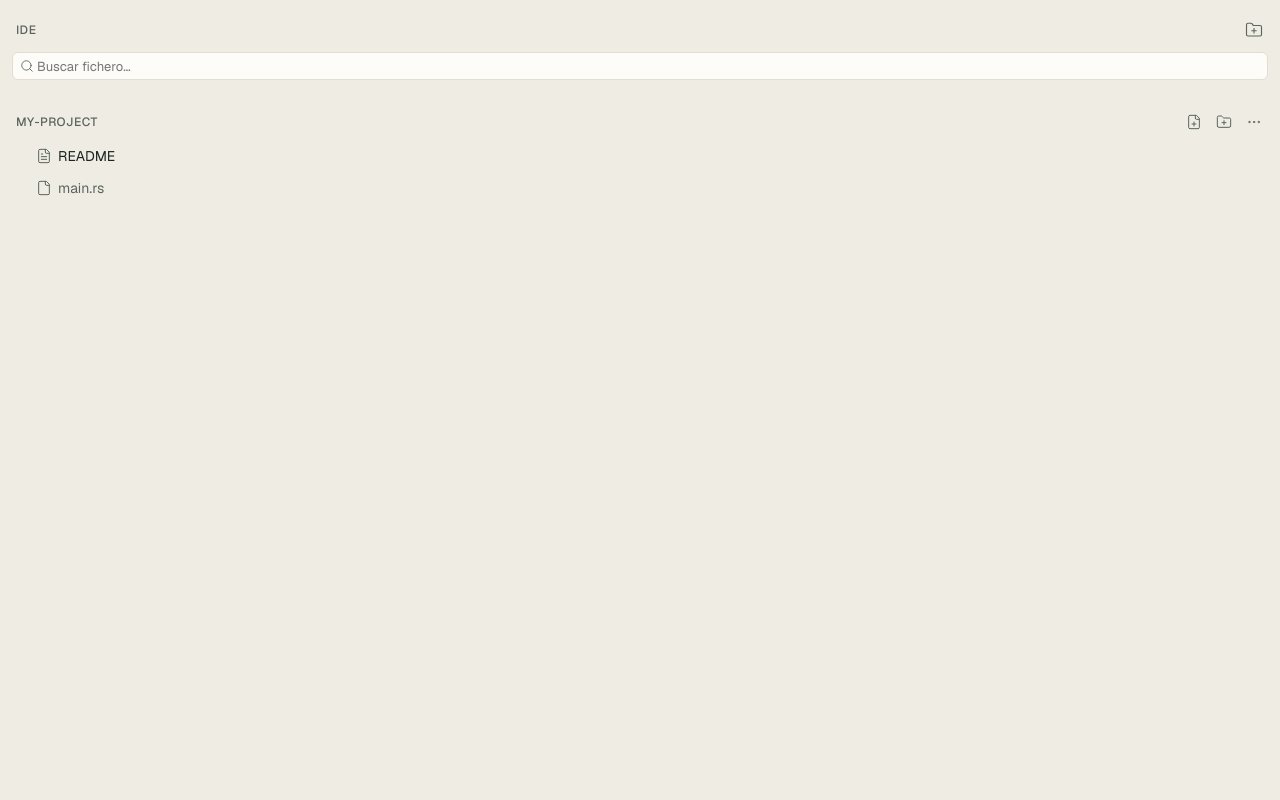
Test: IdeTree › TC-10: delete shows confirm dialog
This screenshot has width=1280, height=800.
Right-click the element with test id "ide-node-README.md" at coordinates (76, 156), box [36, 147, 115, 165]
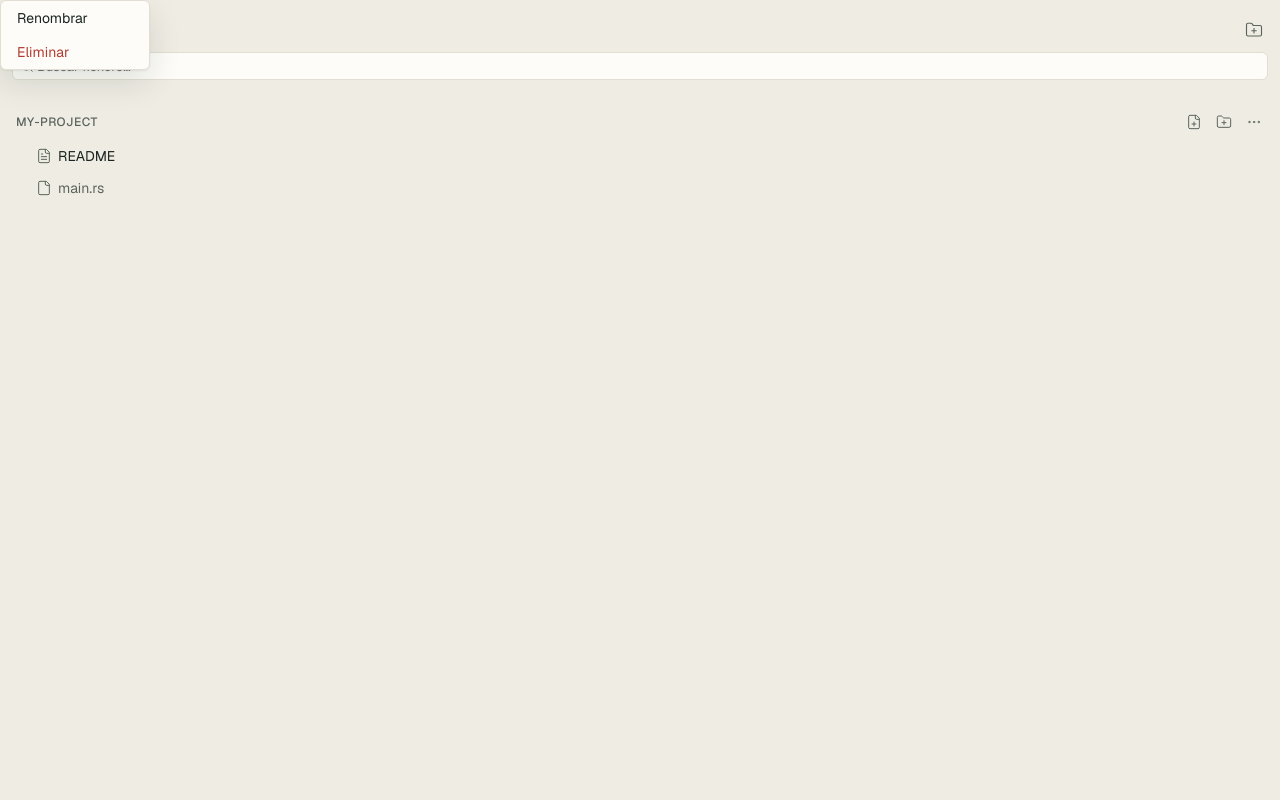
Click the button with test id "ide-context-delete" at coordinates (75, 52), box [1, 35, 149, 69]
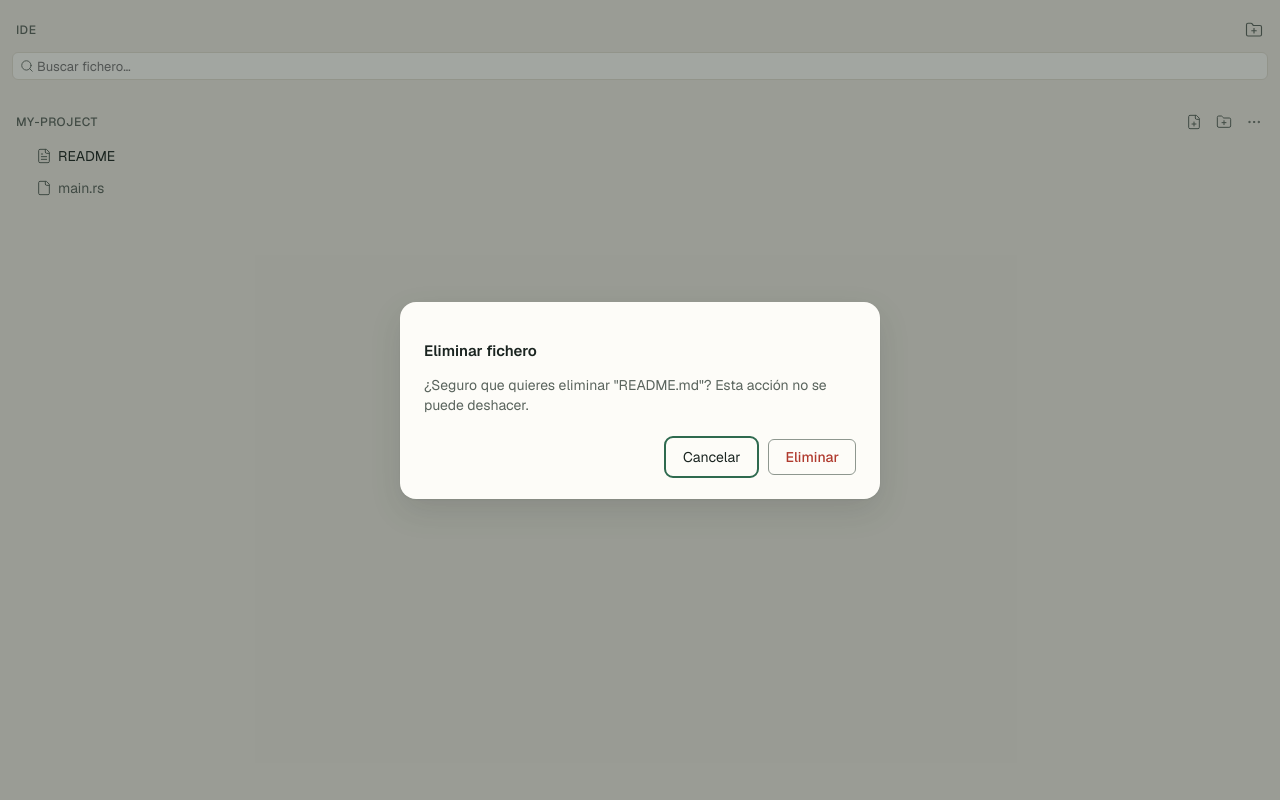
Expected: the element with test id "confirm-dialog-overlay" is shown
